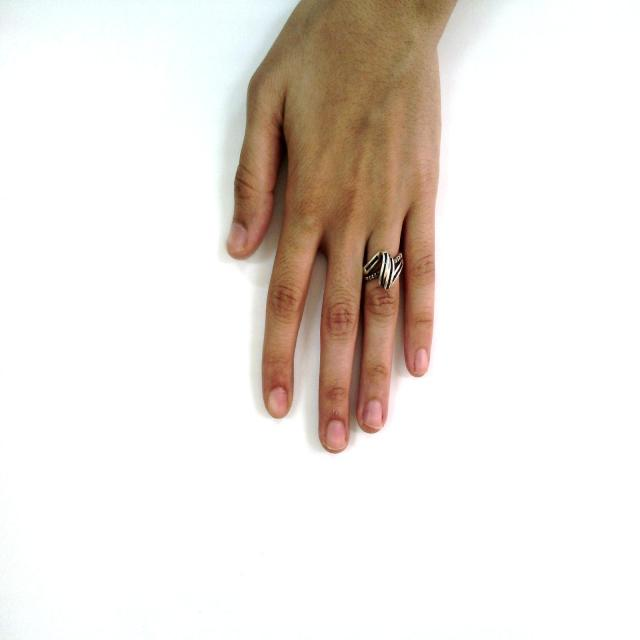Nail: (226, 221, 248, 256), (325, 420, 346, 451), (268, 387, 288, 418), (362, 399, 382, 429), (414, 348, 428, 375)
